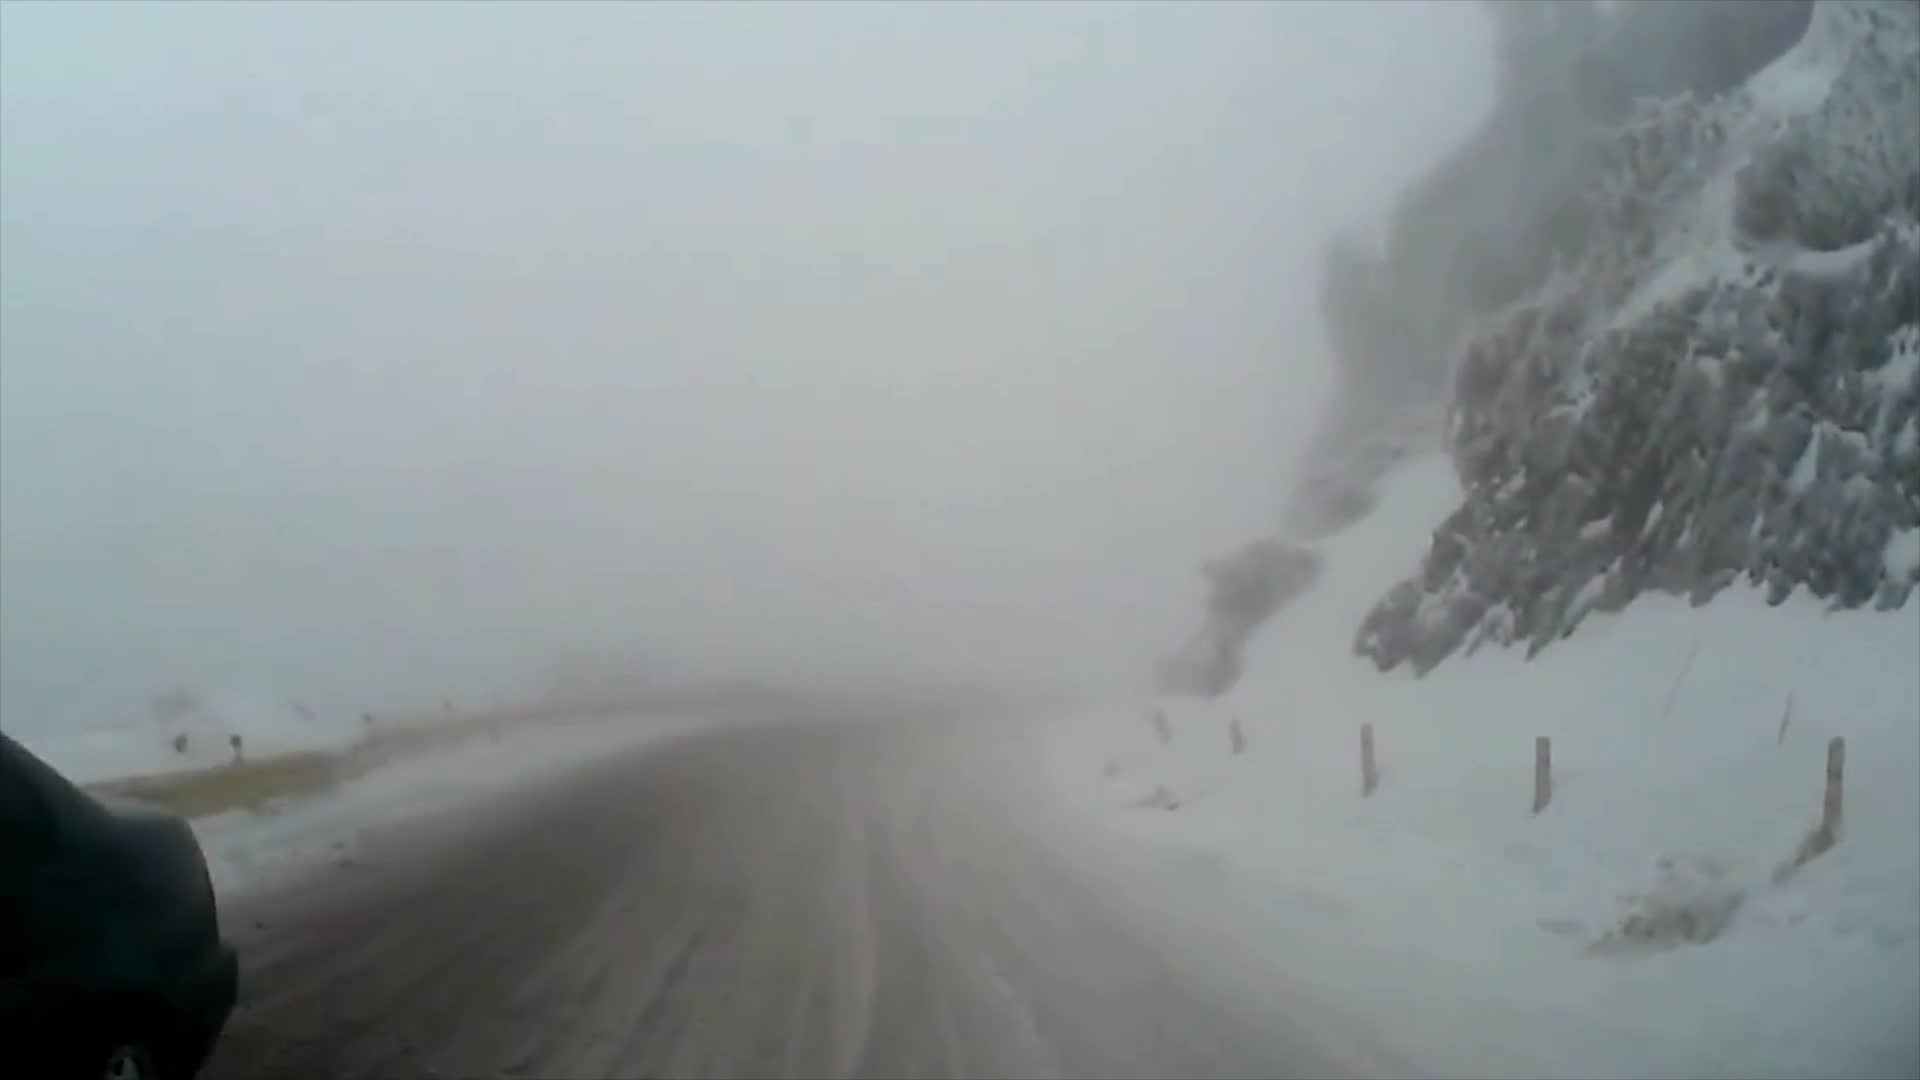vehicle: (0, 731, 240, 1079)
